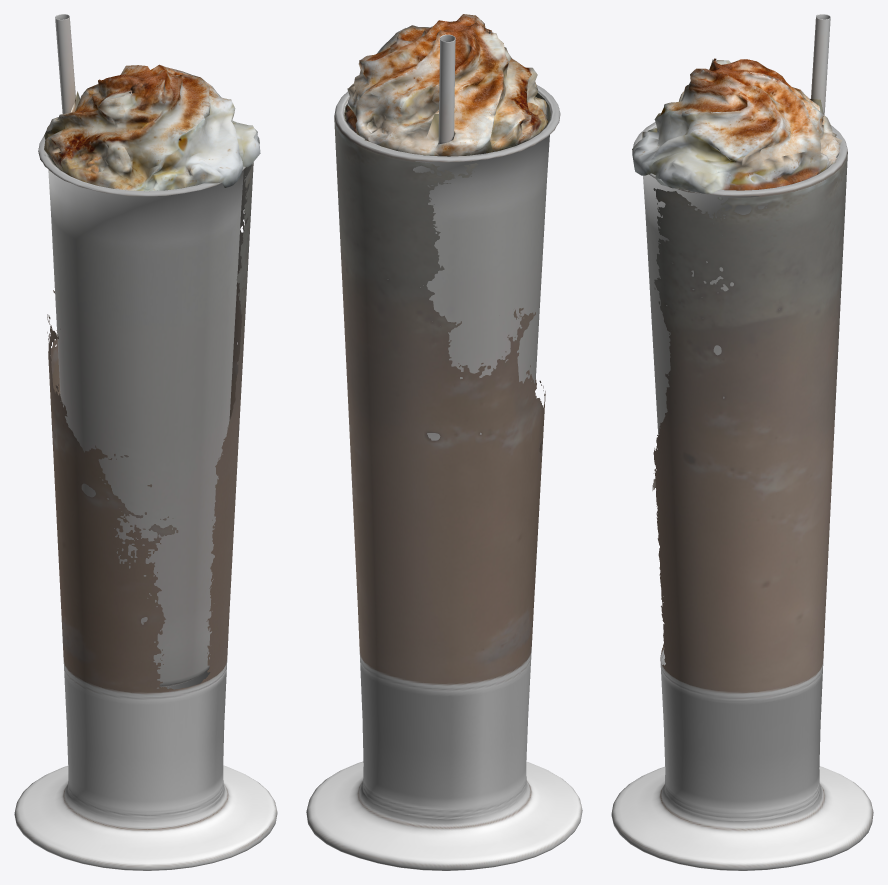
File: vanilla_iced_latte.FBX
The picture shows the model from 3 angles, left to right: view 1: azimuth 30°, elevation 25°; view 2: azimuth 150°, elevation 25°; view 3: azimuth 270°, elevation 25°; orthographic projection. The views are drawn at different scales.
Parts seen in each view (by area): view 1: Object001, 015; view 2: Object001, 015; view 3: Object001, 015.
Part boxes in pixels (left/top/right/bottom): Object001: left=14, top=136, right=277, bottom=870; 015: left=44, top=14, right=260, bottom=191; Object001: left=306, top=84, right=582, bottom=870; 015: left=344, top=14, right=550, bottom=156; Object001: left=611, top=122, right=873, bottom=870; 015: left=632, top=14, right=842, bottom=193.
Size of the model in its own units: 5.58 by 18.29 by 5.58.
Materials: 2 (2 with a texture image).
